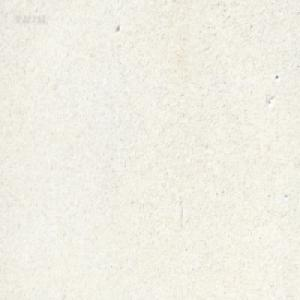Wrench: (173, 0, 180, 5)
